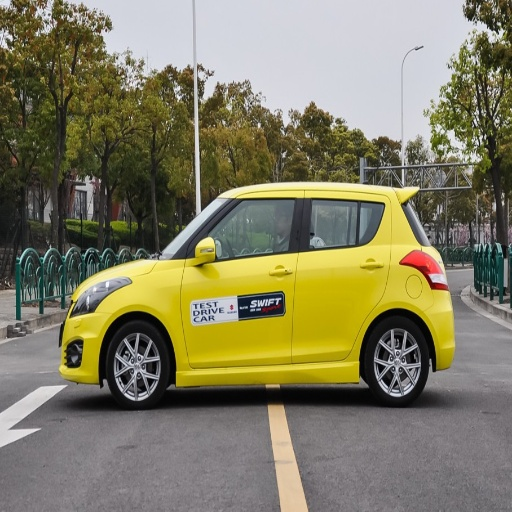back_left_door: (292, 193, 387, 362)
front_left_door: (181, 194, 304, 367)
